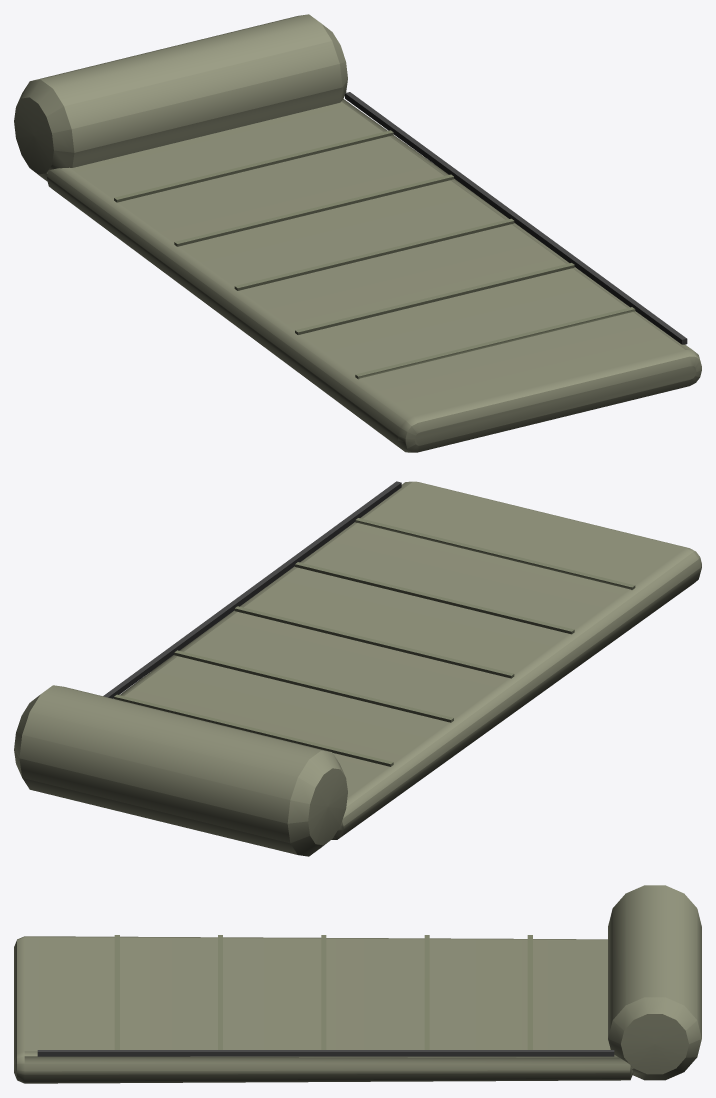
File: bedroll.glb
3 views of the same model, one above another, from view 1: azimuth 30°, elevation 25°; view 2: azimuth 150°, elevation 25°; view 3: azimuth 270°, elevation 25° (orthographic). The views are drawn at different scales.
Visible parts, largest first — view 1: static; view 2: static; view 3: static.
Part boxes in pixels (x1,y1,x2,y2): static: (14,14,701,452); static: (14,481,701,856); static: (14,885,701,1083).
Bounding box in the file's own units: 0.7 × 0.2172 × 1.61.
